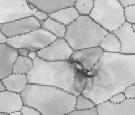good_void: (56, 51, 112, 93)
